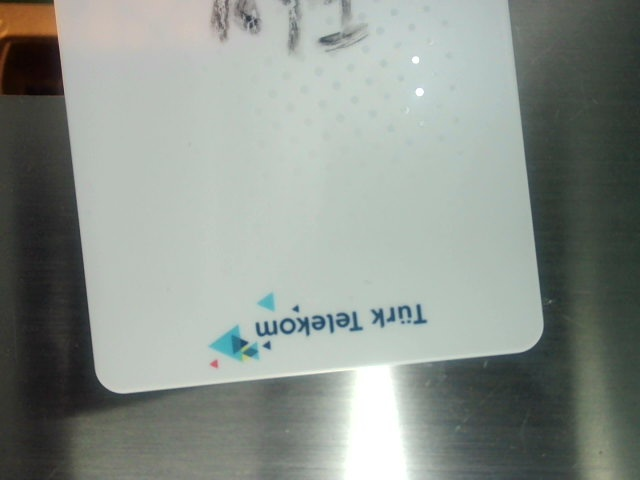AQ_TURKTelekom: (201, 285, 432, 368)
